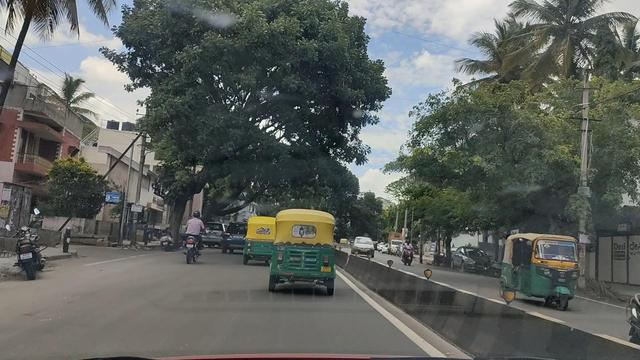LMV: (278, 206, 340, 302), (242, 219, 280, 271), (180, 212, 206, 260)
RoadDamages: (14, 293, 74, 335)
